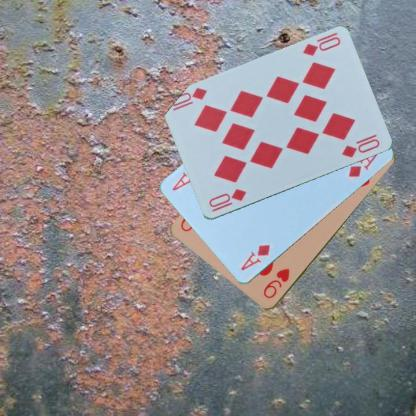10d: (300, 34, 342, 58), (206, 186, 247, 209)
9h: (260, 266, 292, 300)
Ad: (238, 242, 272, 273)
